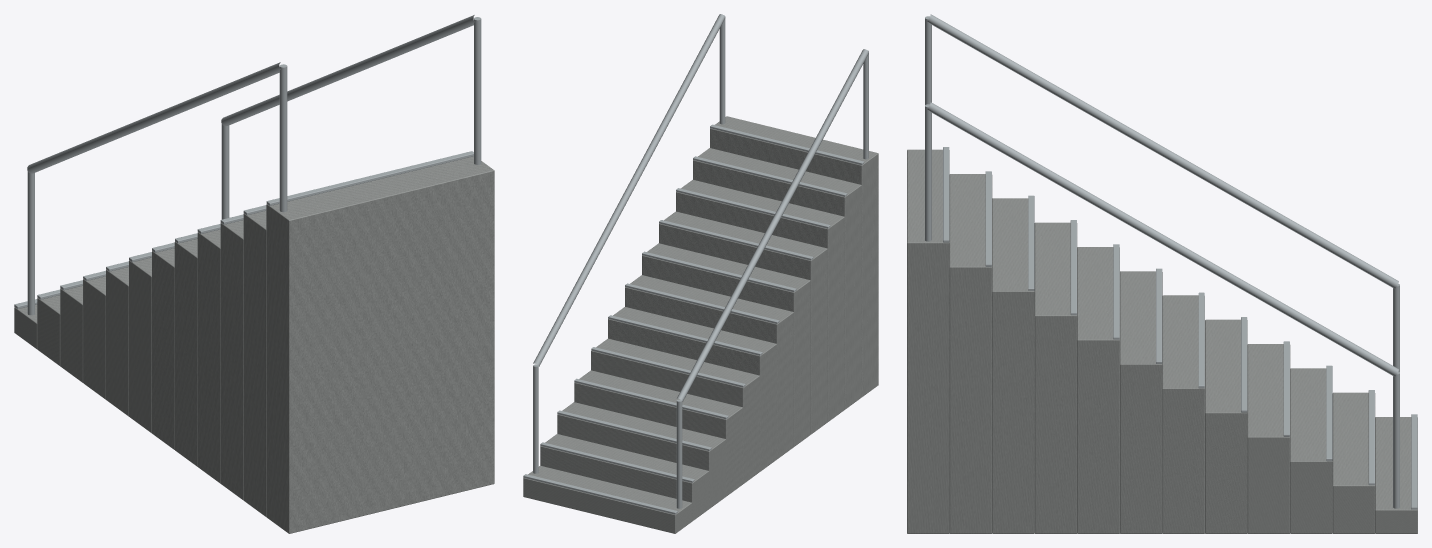
Rendered from liminal-spaces-kit-stairwell-flight-23640987__25291.glb.
The picture shows the model from 3 angles, left to right: view 1: azimuth 30°, elevation 25°; view 2: azimuth 150°, elevation 25°; view 3: azimuth 270°, elevation 25°; orthographic projection. The views are drawn at different scales.
Parts seen in each view (by area): view 1: stairwell-flight; view 2: stairwell-flight; view 3: stairwell-flight.
Part boxes in pixels (left/top/right/bottom): stairwell-flight: left=14, top=15, right=494, bottom=533; stairwell-flight: left=523, top=14, right=878, bottom=533; stairwell-flight: left=907, top=14, right=1417, bottom=533.
Bounding box in the file's own units: 1.4 × 3 × 3.24.
2 materials, 1 textured.
